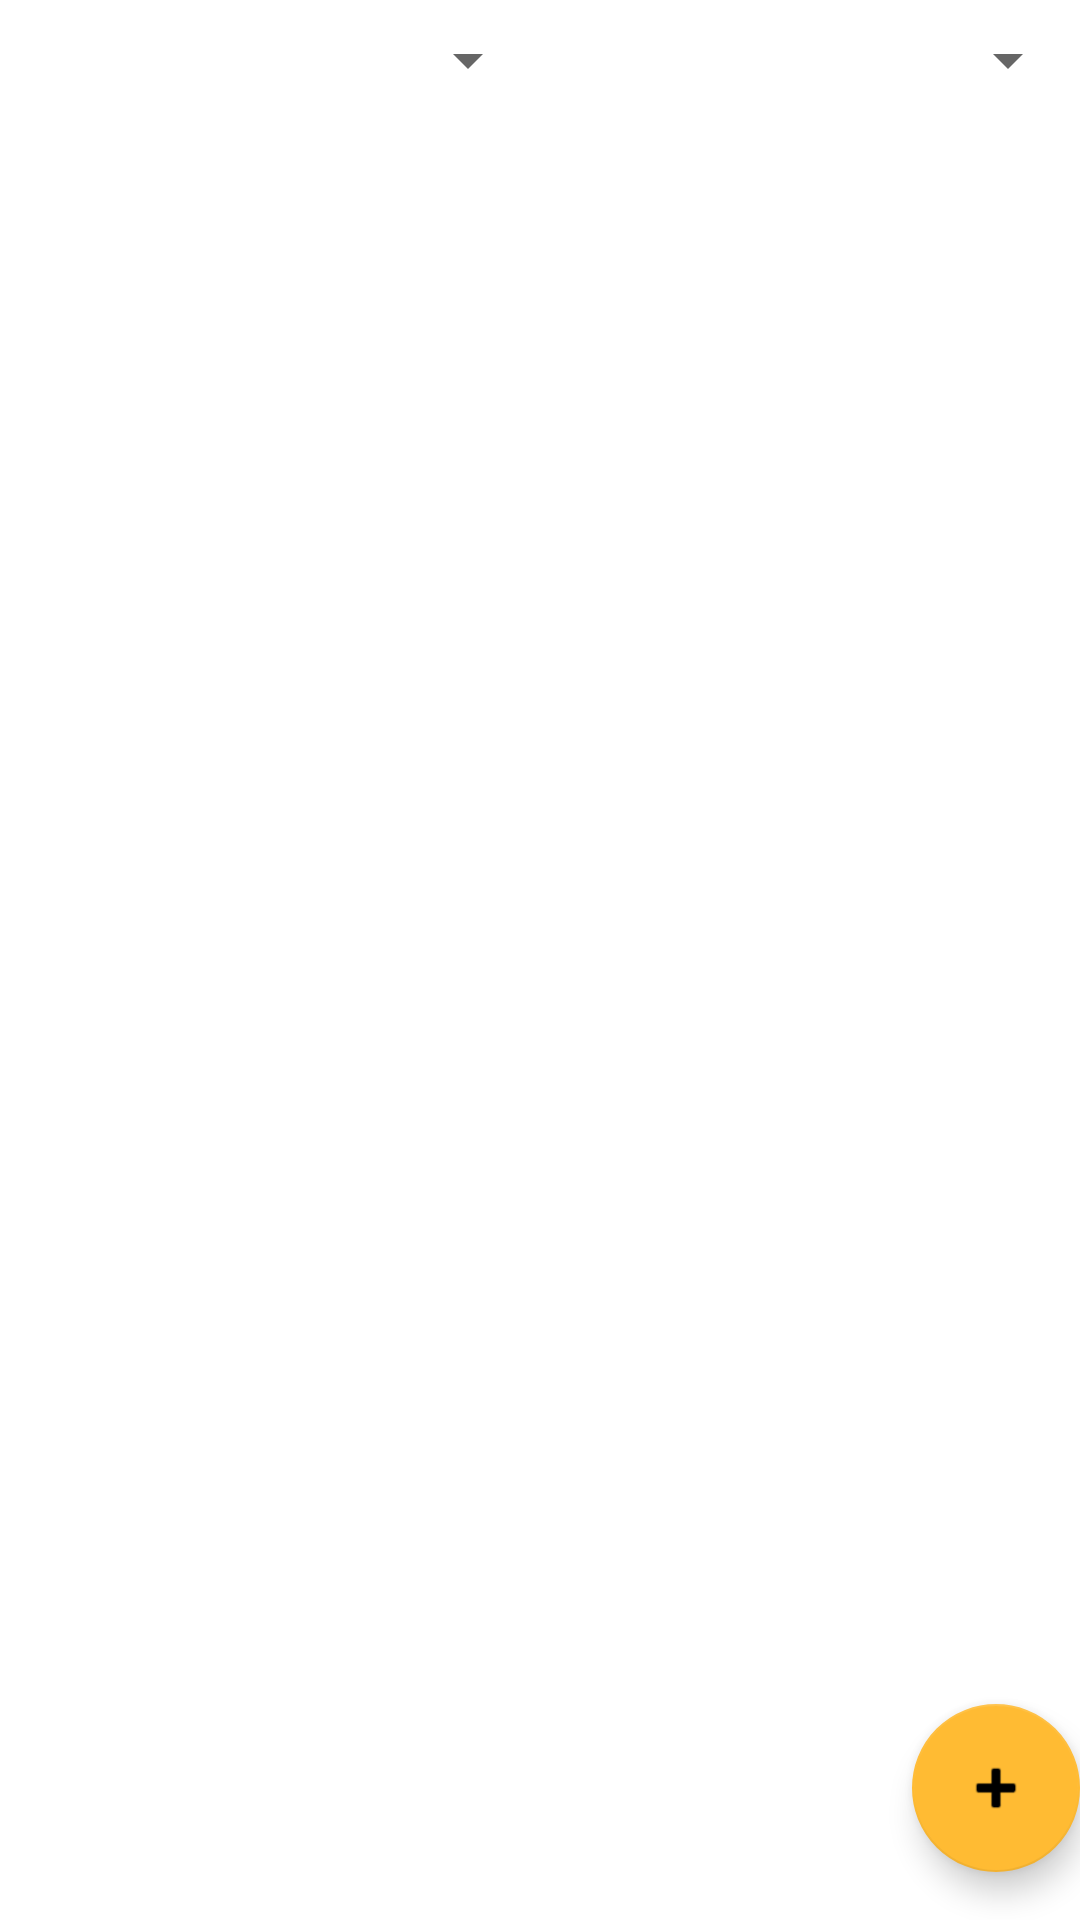

Named icons in this screenshot (1080px×1920px) and their bounding boxes, rect(x1, y1, x2, y2):
add: rect(912, 1704, 1080, 1872)
